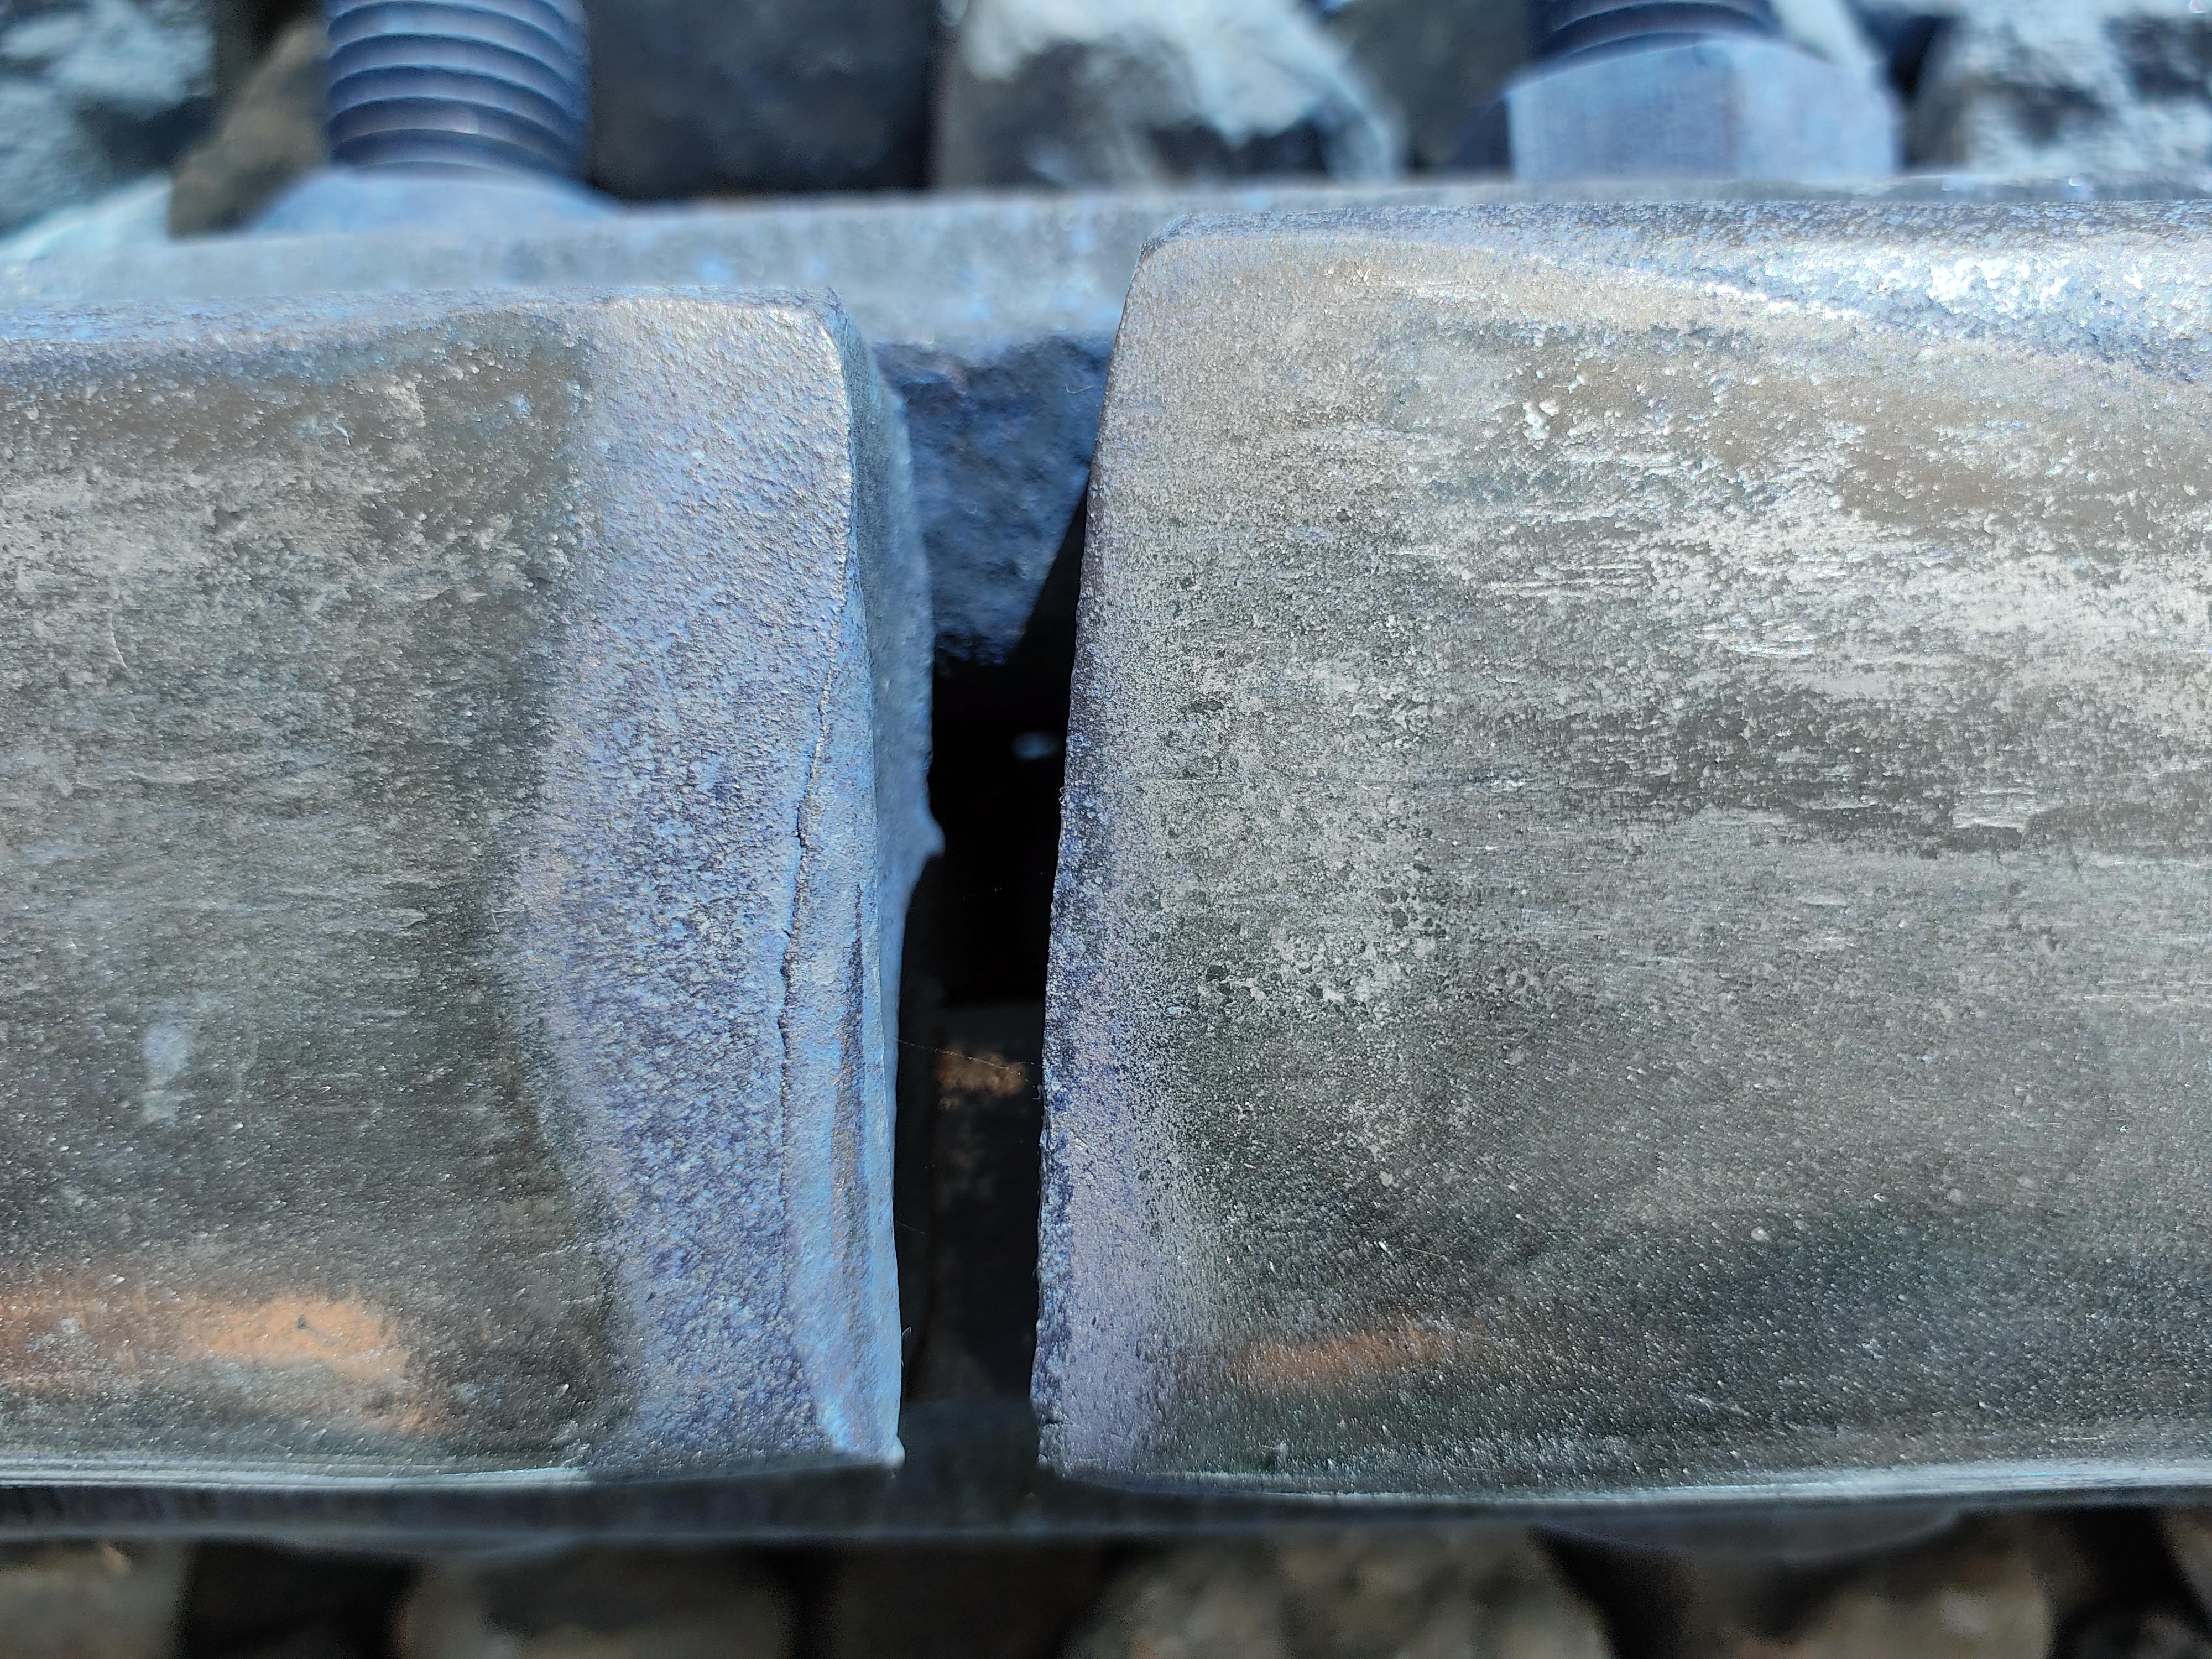error2: (704, 197, 1249, 1495)
